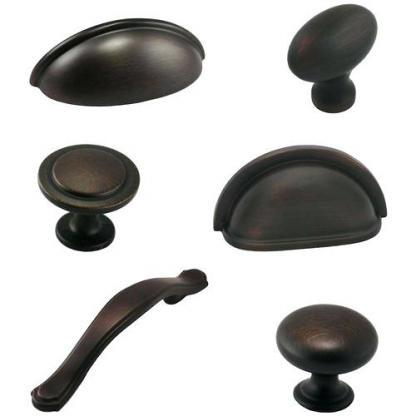knob: (31, 140, 143, 250), (276, 302, 378, 414)
